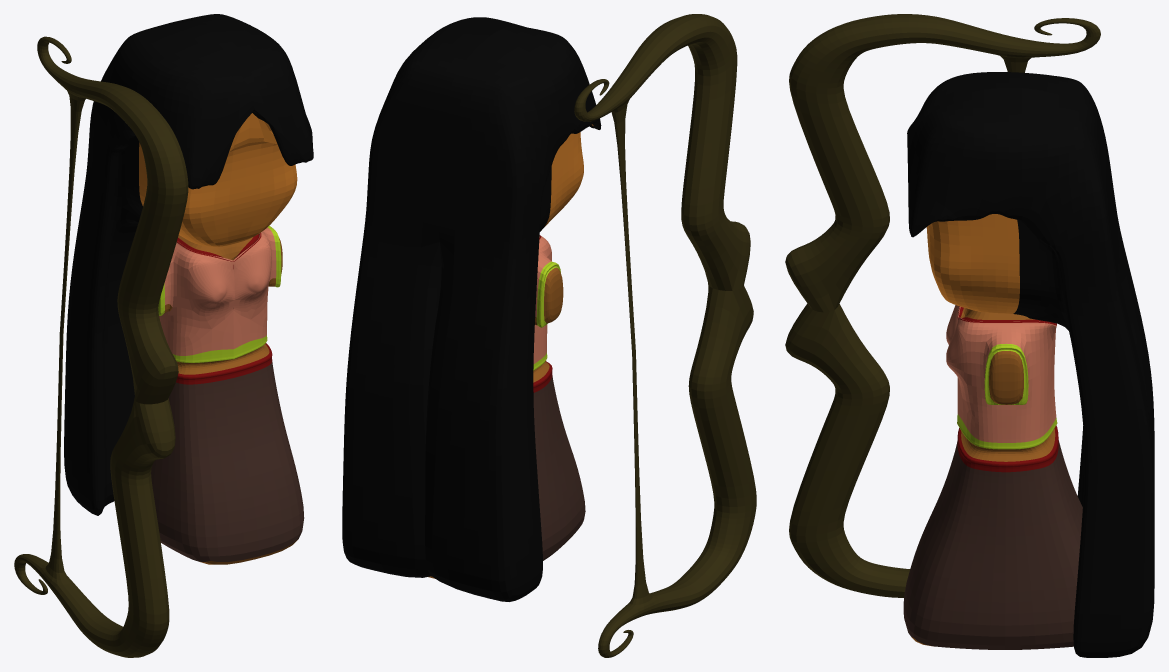
The model's file is ARCHER.obj.
The picture shows the model from 3 angles, left to right: view 1: azimuth 30°, elevation 25°; view 2: azimuth 150°, elevation 25°; view 3: azimuth 270°, elevation 25°; orthographic projection. The views are drawn at different scales.
Parts seen in each view (by area): view 1: head, body, bow; view 2: head, bow, body; view 3: head, body, bow.
Part boxes in pixels (x1=…): head: x1=64, y1=14, x2=313, y2=515; body: x1=151, y1=225, x2=304, y2=564; bow: x1=14, y1=36, x2=188, y2=657; head: x1=342, y1=17, x2=601, y2=601; bow: x1=574, y1=14, x2=756, y2=657; body: x1=428, y1=235, x2=585, y2=578; head: x1=907, y1=72, x2=1154, y2=657; body: x1=903, y1=305, x2=1082, y2=649; bow: x1=785, y1=14, x2=1100, y2=597.
Size of the model in its own units: 3.89 by 8.2 by 4.65.
